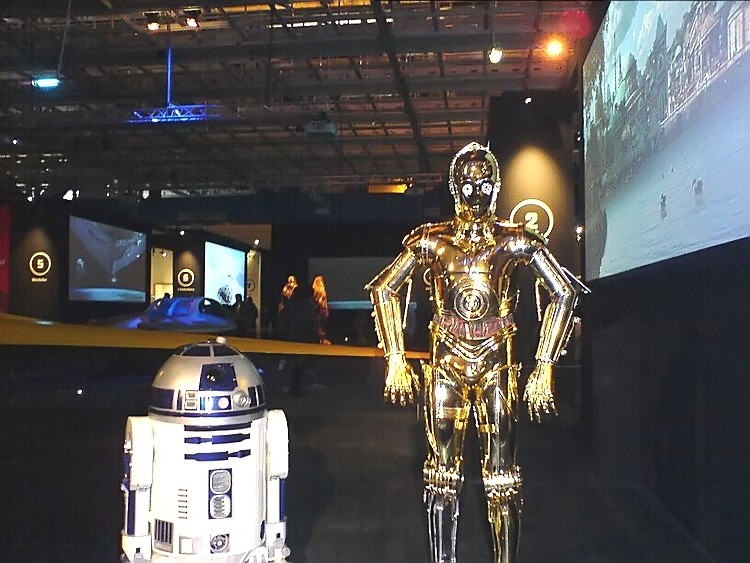r2d2: (121, 339, 290, 563)
